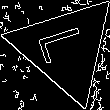L_E: (36, 26, 94, 71)
